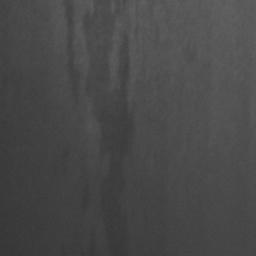Inclusion: (83, 0, 132, 256)
